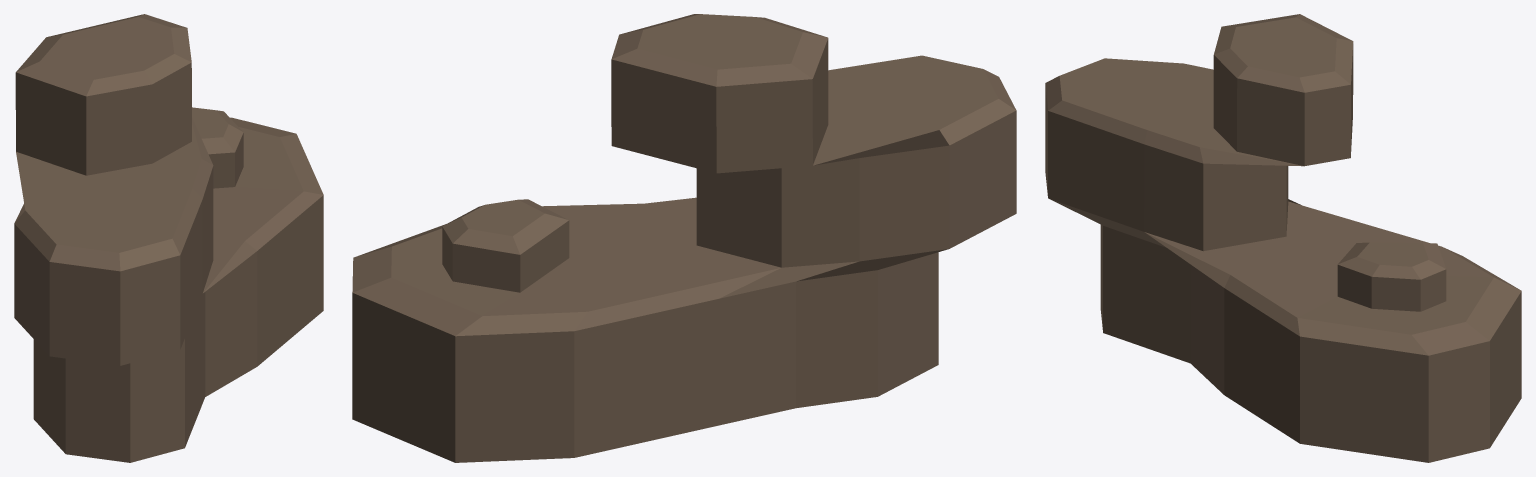
File: Rockstack_01.fbx
The picture shows the model from 3 angles, left to right: view 1: azimuth 30°, elevation 25°; view 2: azimuth 150°, elevation 25°; view 3: azimuth 270°, elevation 25°; orthographic projection. The views are drawn at different scales.
Parts seen in each view (by area): view 1: rockstack_01; view 2: rockstack_01; view 3: rockstack_01.
Boxes of the visible parts, x1=… form: rockstack_01: x1=14, y1=14, x2=323, y2=462; rockstack_01: x1=352, y1=14, x2=1016, y2=462; rockstack_01: x1=1045, y1=14, x2=1521, y2=462.
Bounding box in the file's own units: 1066 × 766 × 1113.
